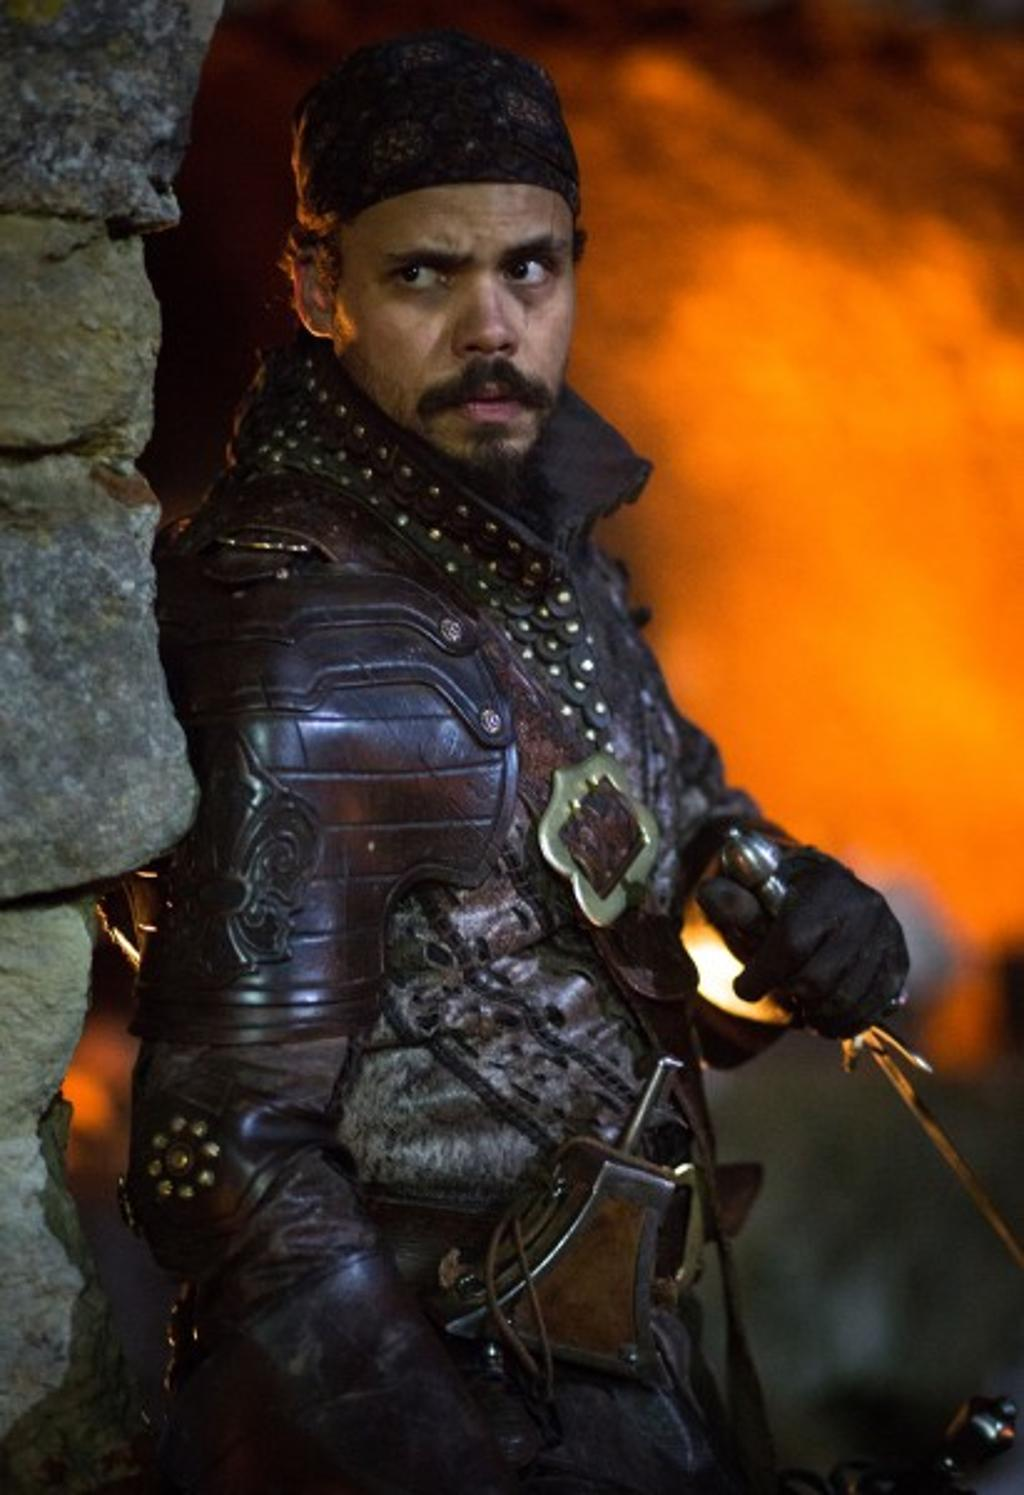face: (360, 170, 579, 462)
